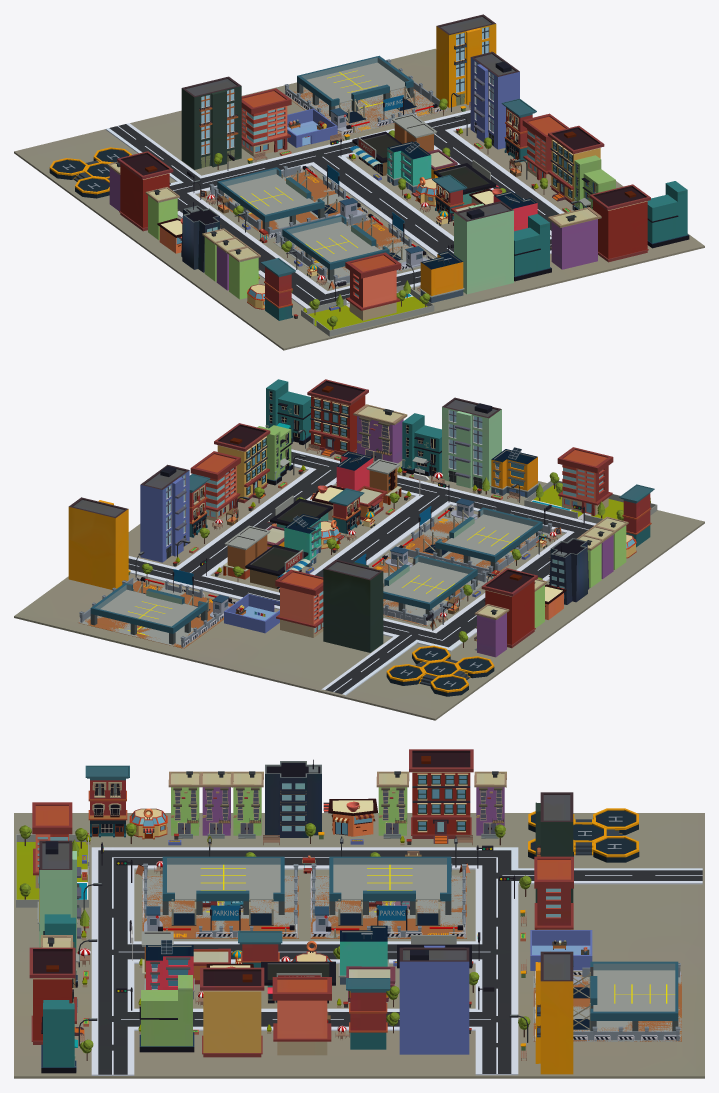
File: final level 2 parking lot.fbx
3 views of the same model, one above another, from view 1: azimuth 30°, elevation 25°; view 2: azimuth 150°, elevation 25°; view 3: azimuth 270°, elevation 25° (orthographic). The views are drawn at different scales.
Parts seen in each view (by area): view 1: FLOOR, Road, Big building.003, Big building.002, Big building.004, upgrade parking floor 3, upgrade parking floor 1, Big building.001, red building.002, upgrade parking floor 2, building 3.001, building 3 (+32 smaller); view 2: FLOOR, Road, Big building.003, Big building.004, Big building.002, Big building.001, upgrade parking floor 3, upgrade parking floor 2, red building.002, upgrade parking floor 1, Cylinder, building 3.001 (+33 smaller); view 3: FLOOR, Road, Big building.001, upgrade parking floor 2, upgrade parking floor 1, red building.001, upgrade parking floor 3, red building, Big building.004, building 3.002, building 2, Blue building.002 (+34 smaller).
Part boxes in pixels (bbox=[...]): FLOOR: bbox=[14, 48, 704, 350]; Road: bbox=[105, 110, 564, 308]; Big building.003: bbox=[181, 76, 241, 169]; Big building.002: bbox=[454, 201, 513, 294]; Big building.004: bbox=[436, 14, 496, 107]; upgrade parking floor 3: bbox=[297, 55, 413, 116]; upgrade parking floor 1: bbox=[217, 167, 324, 231]; Big building.001: bbox=[470, 51, 519, 149]; red building.002: bbox=[589, 184, 650, 262]; upgrade parking floor 2: bbox=[282, 215, 389, 280]; building 3.001: bbox=[345, 252, 401, 320]; building 3: bbox=[241, 88, 291, 156]; FLOOR: bbox=[14, 440, 704, 720]; Road: bbox=[128, 449, 596, 695]; Big building.003: bbox=[323, 559, 383, 652]; Big building.004: bbox=[68, 497, 128, 589]; Big building.002: bbox=[442, 397, 501, 490]; Big building.001: bbox=[140, 464, 189, 562]; upgrade parking floor 3: bbox=[90, 583, 207, 644]; upgrade parking floor 2: bbox=[435, 507, 542, 571]; red building.002: bbox=[307, 379, 368, 456]; upgrade parking floor 1: bbox=[383, 555, 477, 620]; Cylinder: bbox=[386, 645, 494, 696]; building 3.001: bbox=[557, 447, 613, 515]; FLOOR: bbox=[14, 813, 704, 1078]; Road: bbox=[91, 847, 702, 1075]; Big building.001: bbox=[399, 945, 469, 1054]; upgrade parking floor 2: bbox=[162, 856, 284, 914]; upgrade parking floor 1: bbox=[329, 856, 451, 914]; red building.001: bbox=[200, 967, 264, 1057]; upgrade parking floor 3: bbox=[590, 961, 678, 1031]; red building: bbox=[409, 749, 473, 843]; Big building.004: bbox=[535, 951, 573, 1074]; building 3.002: bbox=[272, 977, 331, 1055]; building 2: bbox=[265, 759, 321, 837]; Blue building.002: bbox=[139, 975, 194, 1052].
Size of the model in its own units: 117 by 20.46 by 129.
